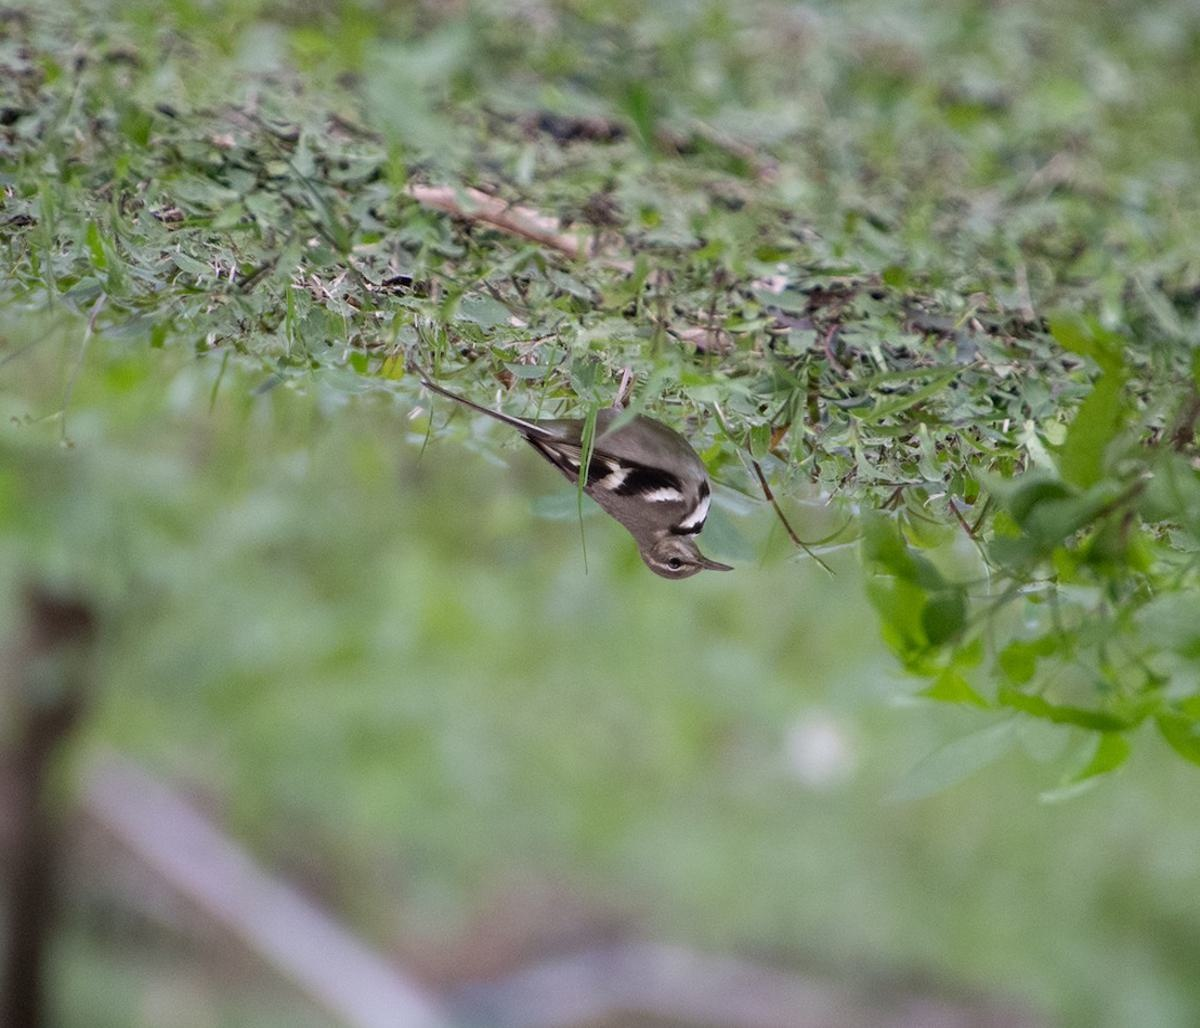wagtail: (452, 368, 755, 598)
